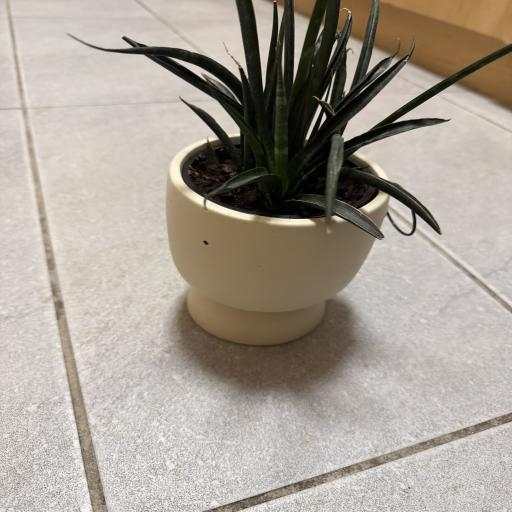Plant Pot: (153, 136, 387, 347)
